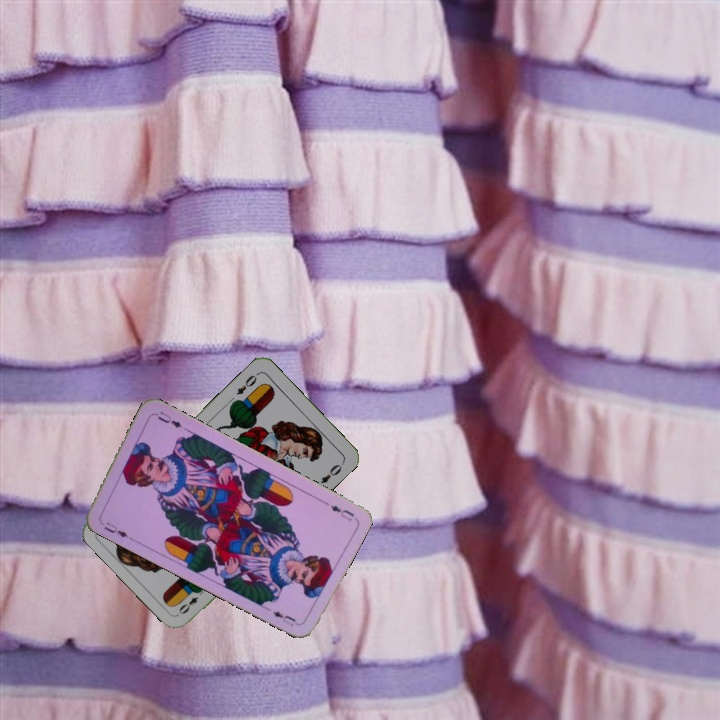EO: (175, 585, 208, 617), (232, 369, 261, 398)
EU: (319, 497, 357, 524), (96, 516, 133, 542)
